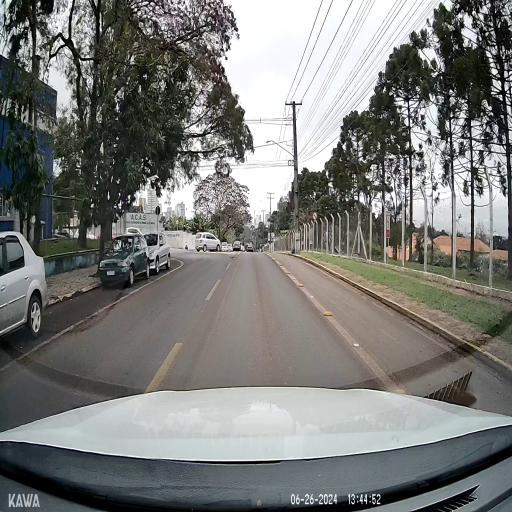R-24a: (312, 212, 317, 220)
